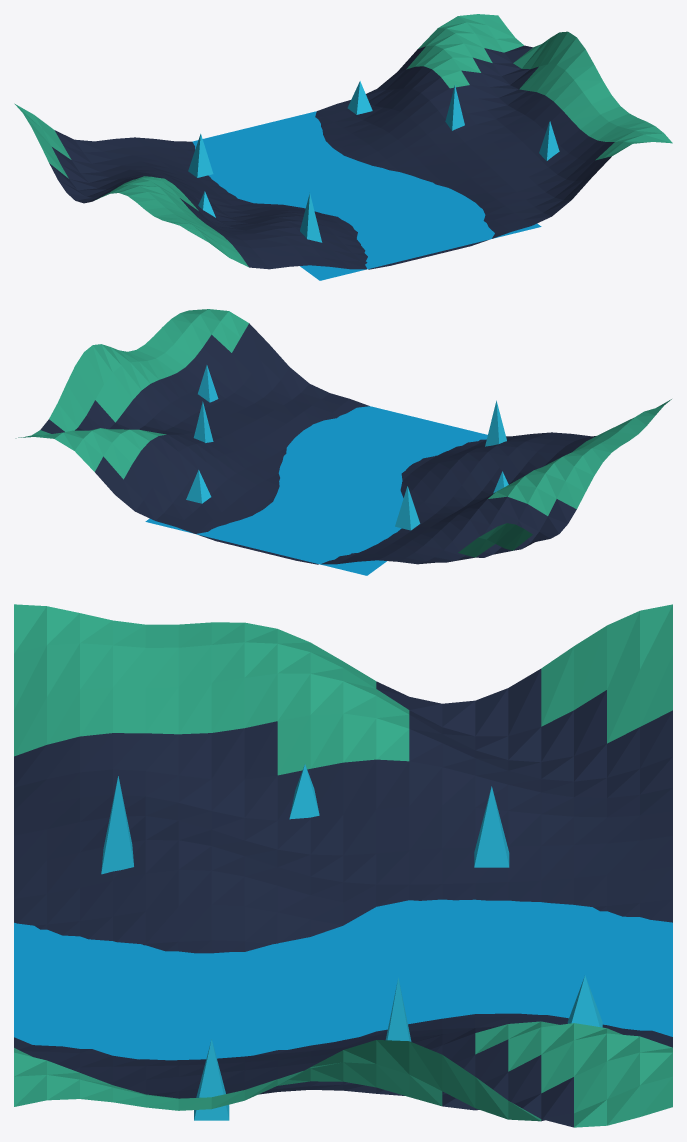
Rendered from terrain_cyber_loop_chunk.obj.
The picture shows the model from 3 angles, top to bottom: view 1: azimuth 30°, elevation 25°; view 2: azimuth 150°, elevation 25°; view 3: azimuth 270°, elevation 25°; orthographic projection. The views are drawn at different scales.
Parts seen in each view (by area): view 1: terrain_ground, terrain_fluid, terrain_peaks, terrain_props; view 2: terrain_ground, terrain_fluid, terrain_peaks, terrain_props; view 3: terrain_ground, terrain_peaks, terrain_fluid, terrain_props.
Boxes of the visible parts, x1,y1,x2,y2 form: terrain_ground: [49, 45, 614, 269]; terrain_fluid: [192, 111, 541, 280]; terrain_peaks: [14, 14, 672, 267]; terrain_props: [188, 81, 559, 242]; terrain_ground: [40, 323, 595, 564]; terrain_fluid: [145, 406, 487, 575]; terrain_peaks: [15, 309, 671, 557]; terrain_props: [186, 365, 508, 530]; terrain_ground: [14, 669, 672, 1127]; terrain_peaks: [14, 604, 672, 1127]; terrain_fluid: [14, 899, 672, 1060]; terrain_props: [101, 764, 602, 1120].
Bounding box in the file's own units: 96 × 16.91 × 60.
